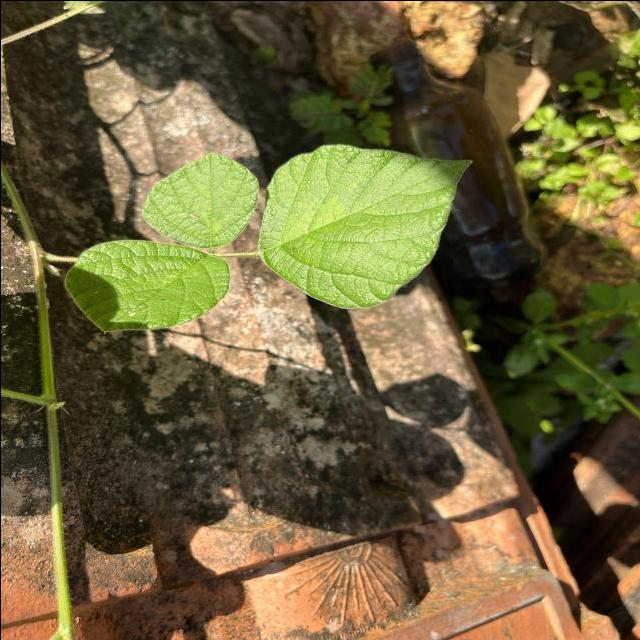Pseudarthria viscida: (59, 139, 480, 339)
